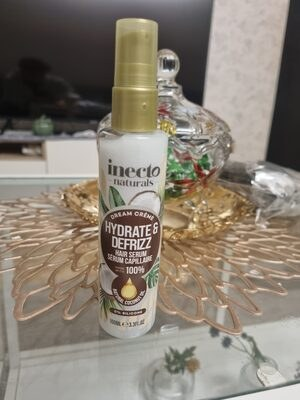Hydrate & Defrizz hair serum: (15, 20, 285, 380)
